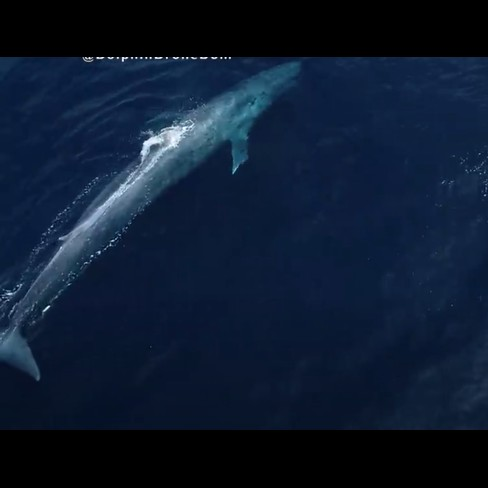bluewhale: (2, 59, 311, 384)
